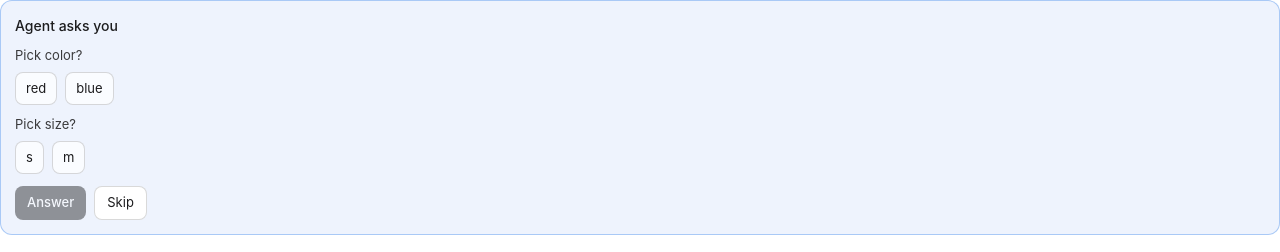
Test: AskCard › submit is disabled until all questions answered
Expected: the button "Answer" is disabled, [15,186,86,220]
Click the button "red" at (36, 88), box [15,72,57,105]
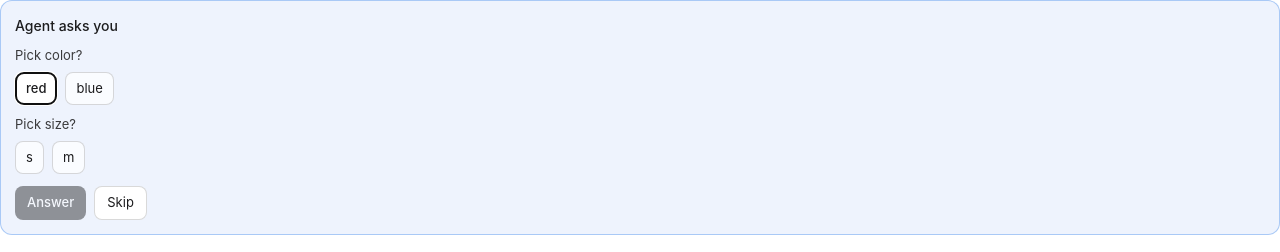
Expected: the button "Answer" is disabled, [15,186,86,220]
Click the button "s" at (29, 157), box [15,140,44,174]
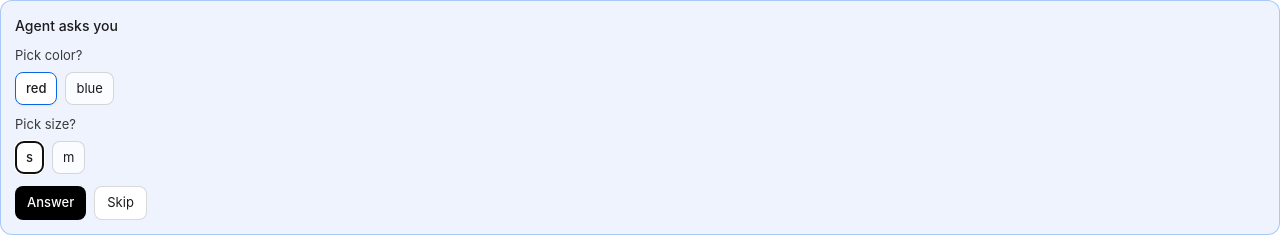
Expected: the button "Answer" is enabled, [15,186,86,220]
